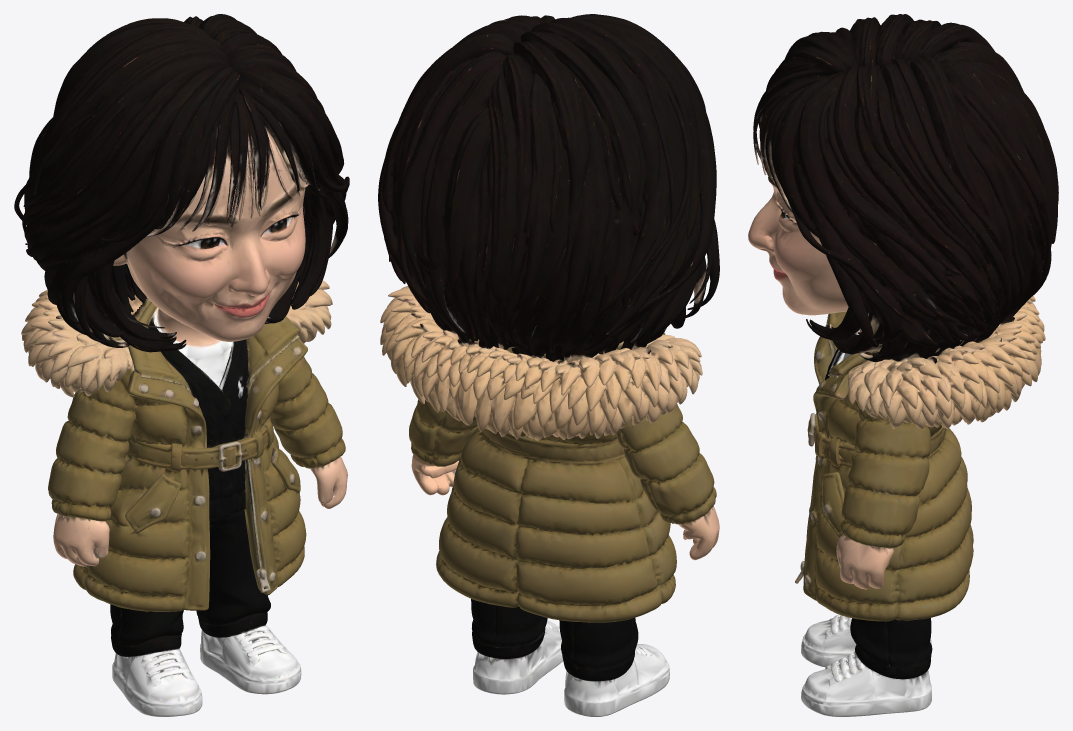
File: family_mom.glb
The picture shows the model from 3 angles, left to right: view 1: azimuth 30°, elevation 25°; view 2: azimuth 150°, elevation 25°; view 3: azimuth 270°, elevation 25°; orthographic projection. The views are drawn at different scales.
Bounding box in the file's own units: 0.9306 × 1.9 × 0.8256.
1 material, 1 textured.
